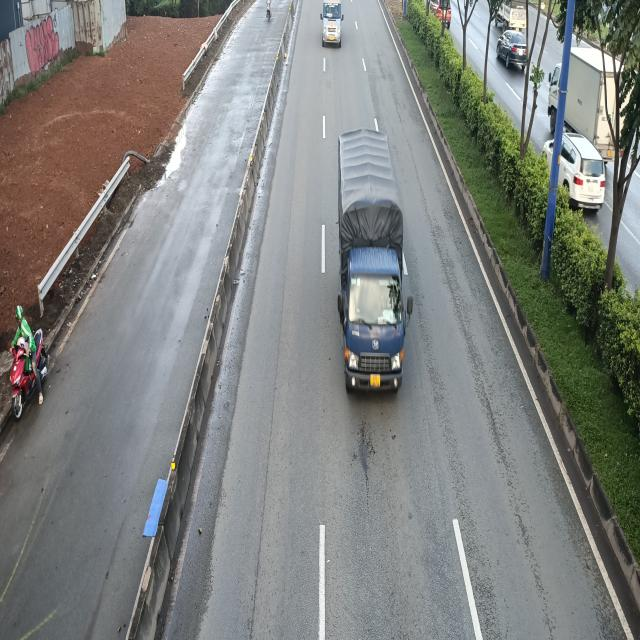truck: (336, 130, 415, 398)
van: (320, 0, 344, 48)
